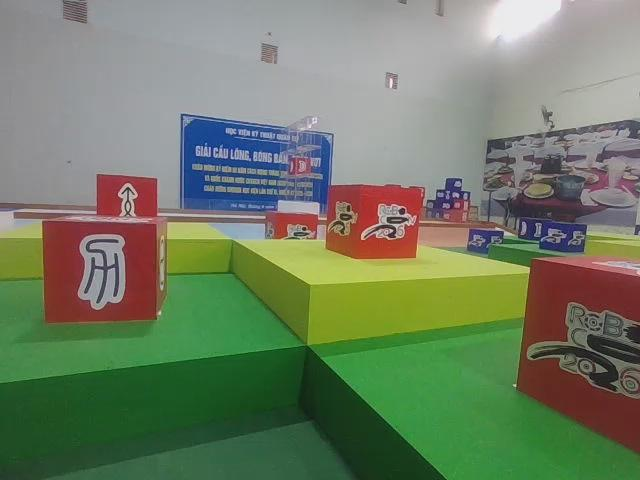R1: (515, 252, 640, 457), (327, 181, 424, 262)
R2 Fake: (40, 214, 170, 325)
R2 Real: (94, 171, 160, 224)
